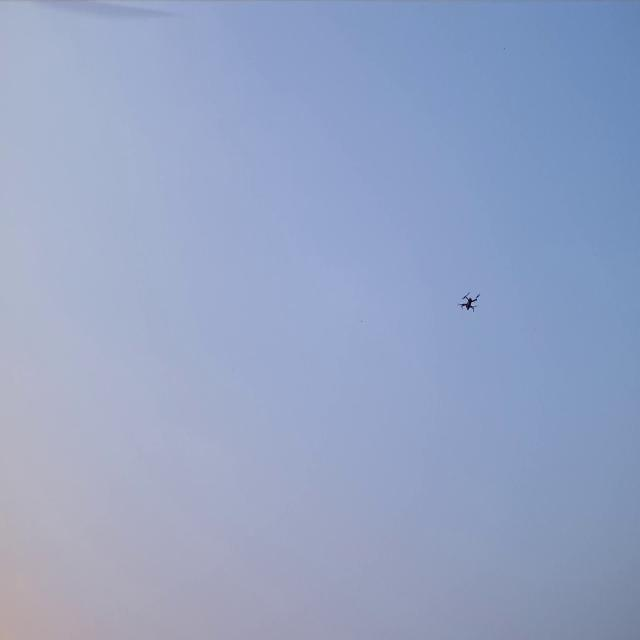UAV: (457, 289, 481, 313)
